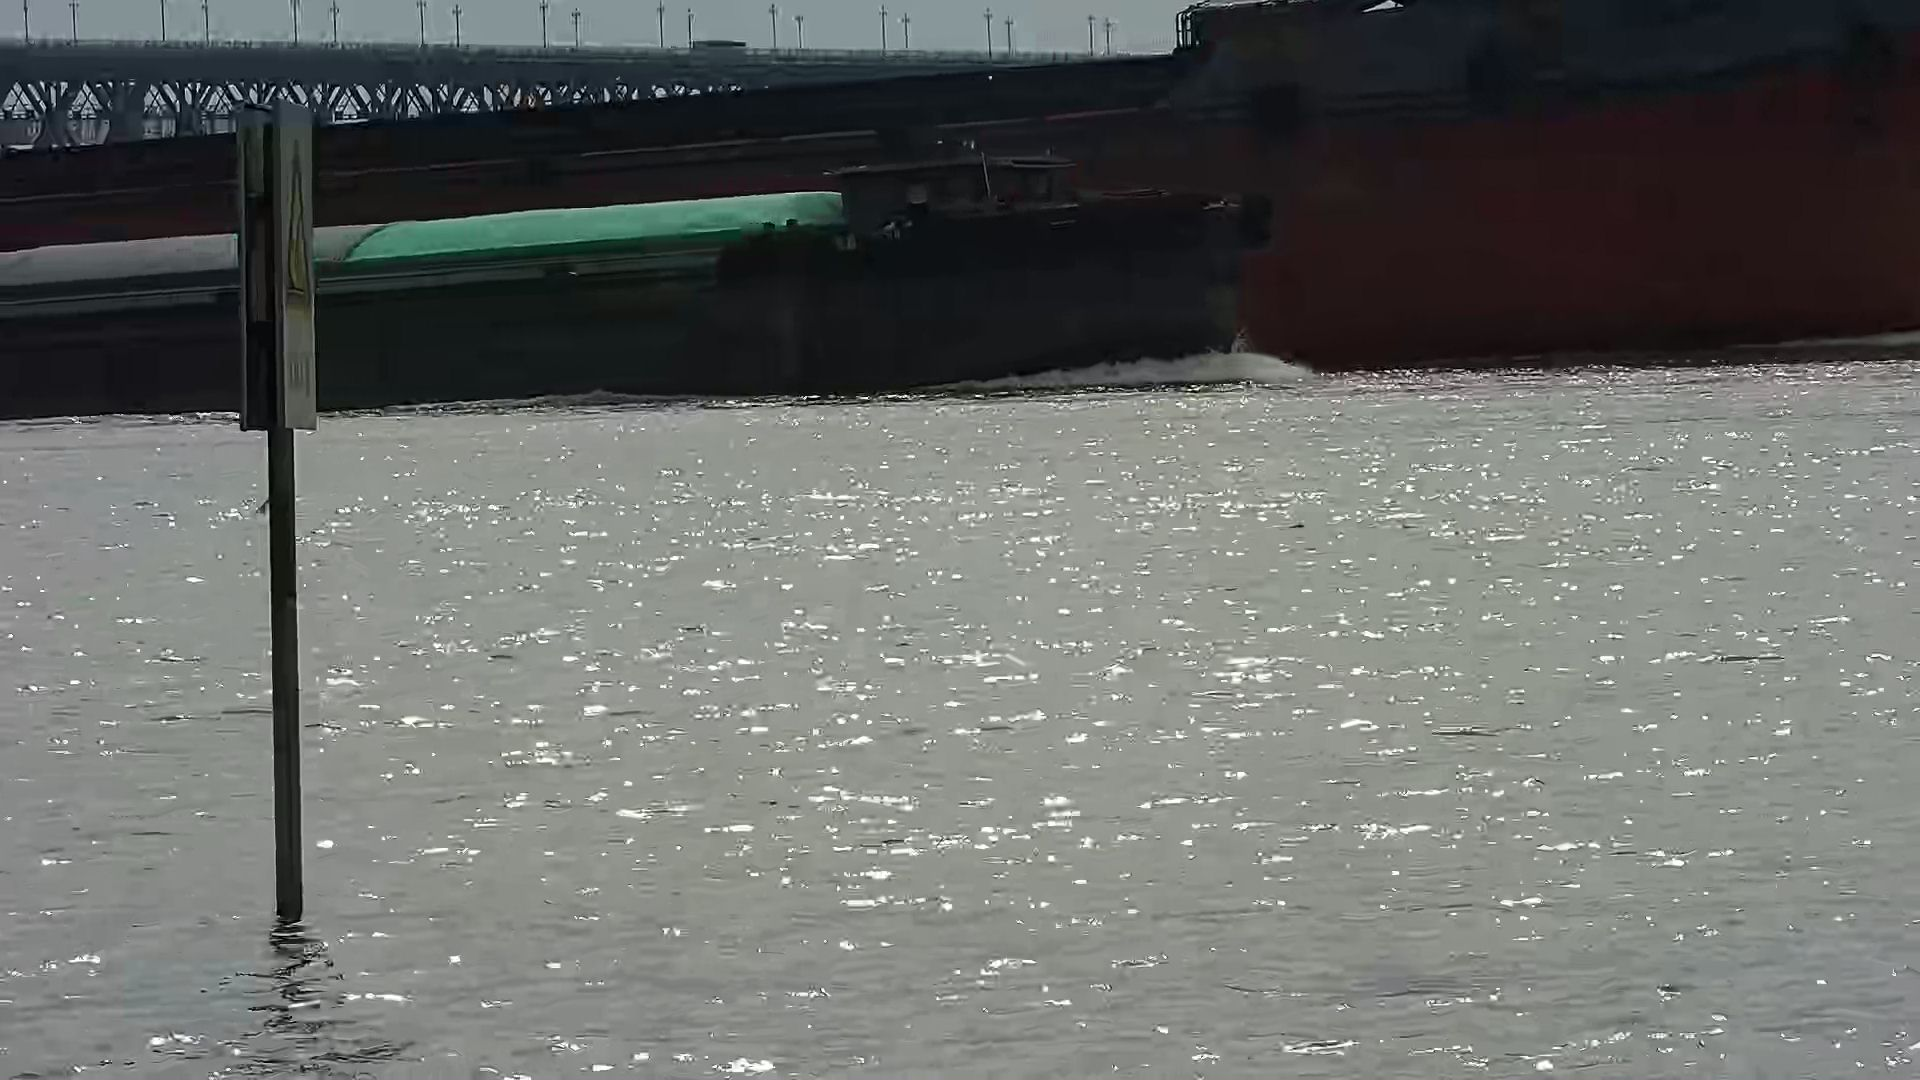bridge: (1, 1, 1164, 148)
mast: (239, 102, 330, 924)
ship: (1, 3, 1920, 419), (1, 154, 1279, 421)
